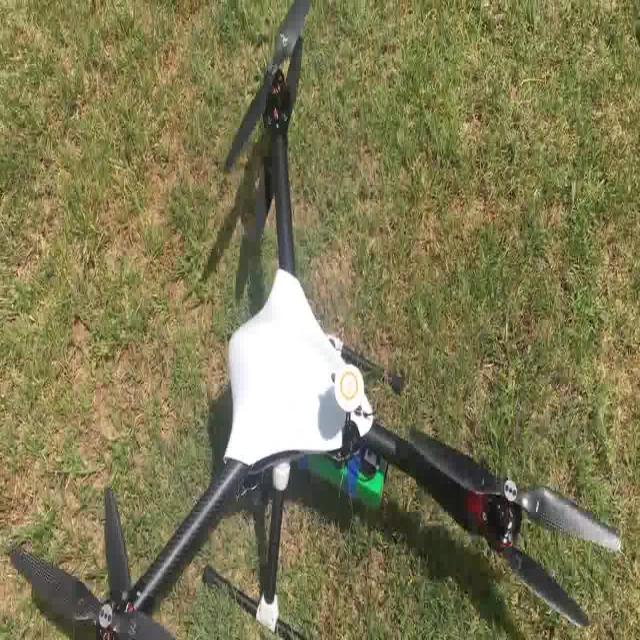Drone_FW: (11, 0, 622, 636)
